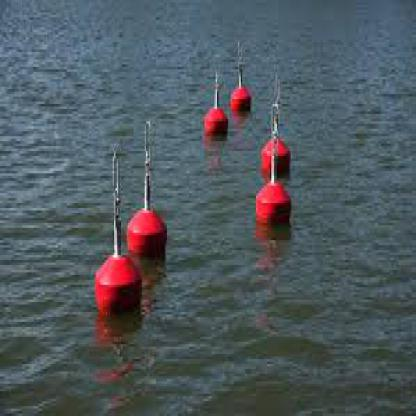buoy: (86, 208, 144, 312), (245, 166, 296, 225), (130, 188, 168, 258), (262, 104, 300, 171), (200, 84, 232, 146), (231, 62, 259, 121)
